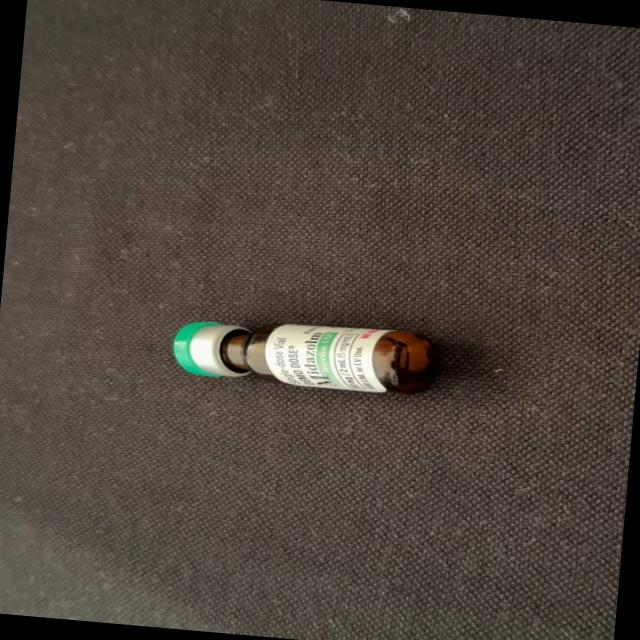midazolm: (174, 310, 434, 396)
